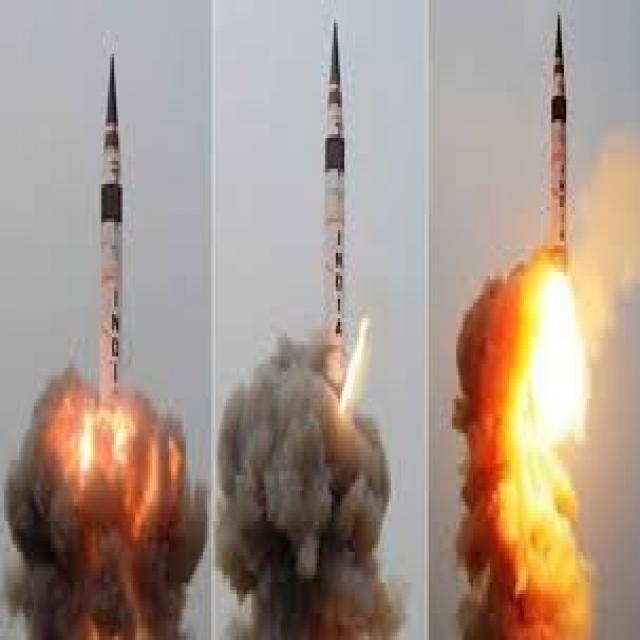Missile: (95, 45, 125, 413), (322, 9, 350, 364), (546, 7, 576, 307)
